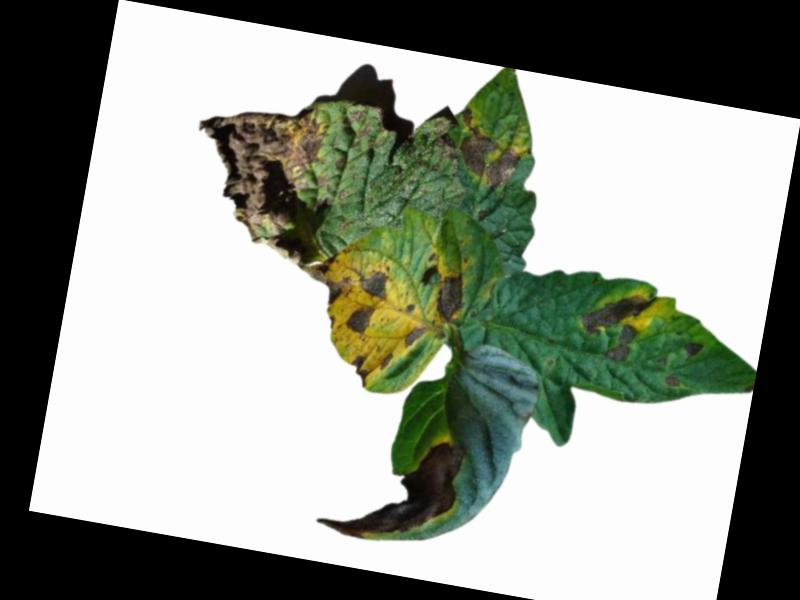Early_blight: (178, 90, 337, 266), (314, 422, 466, 554), (447, 101, 527, 194), (574, 284, 656, 368), (292, 245, 357, 311), (429, 269, 468, 329), (355, 261, 394, 302), (428, 114, 457, 164), (343, 302, 375, 337), (346, 352, 373, 390), (400, 325, 428, 350), (342, 105, 366, 129), (683, 339, 704, 361), (379, 354, 392, 372), (662, 374, 680, 387)
